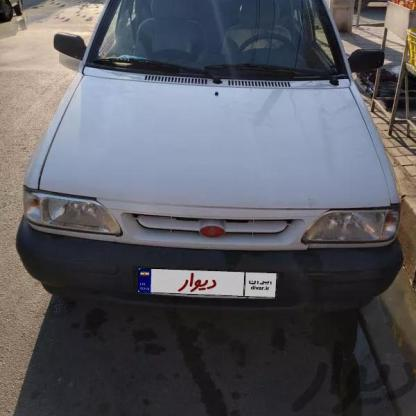Car: (0, 0, 398, 324)
